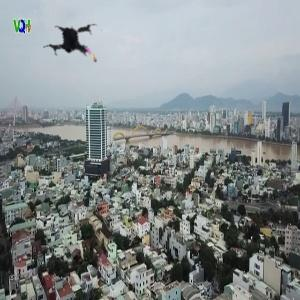drone: (41, 14, 110, 83)
